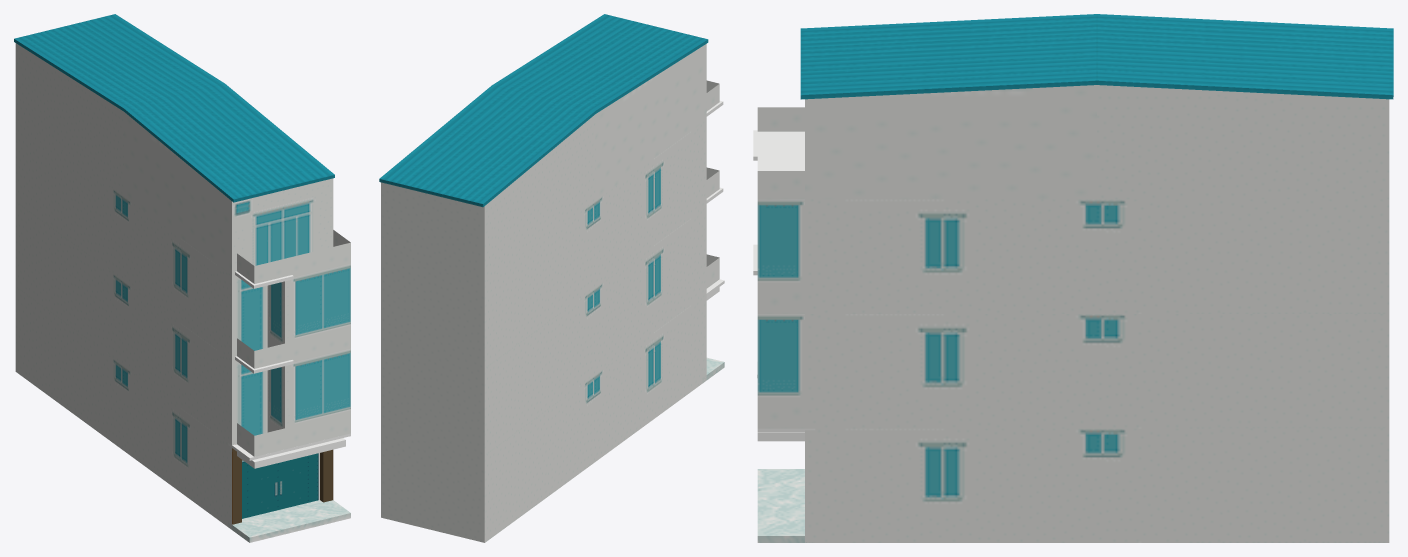
The picture shows the model from 3 angles, left to right: view 1: azimuth 30°, elevation 25°; view 2: azimuth 150°, elevation 25°; view 3: azimuth 270°, elevation 25°; orthographic projection. The views are drawn at different scales.
Visible parts, largest first — view 1: 594b9b33cbc4876d74b5d185.001; view 2: 594b9b33cbc4876d74b5d185.001; view 3: 594b9b33cbc4876d74b5d185.001.
Boxes of the visible parts, box(x1,y1,x2,y2) form: 594b9b33cbc4876d74b5d185.001: box(14, 14, 350, 542); 594b9b33cbc4876d74b5d185.001: box(379, 14, 724, 542); 594b9b33cbc4876d74b5d185.001: box(753, 14, 1393, 542).
Bounding box in the file's own units: 5 × 16.15 × 20.27.
Materials: 1 (1 with a texture image).
